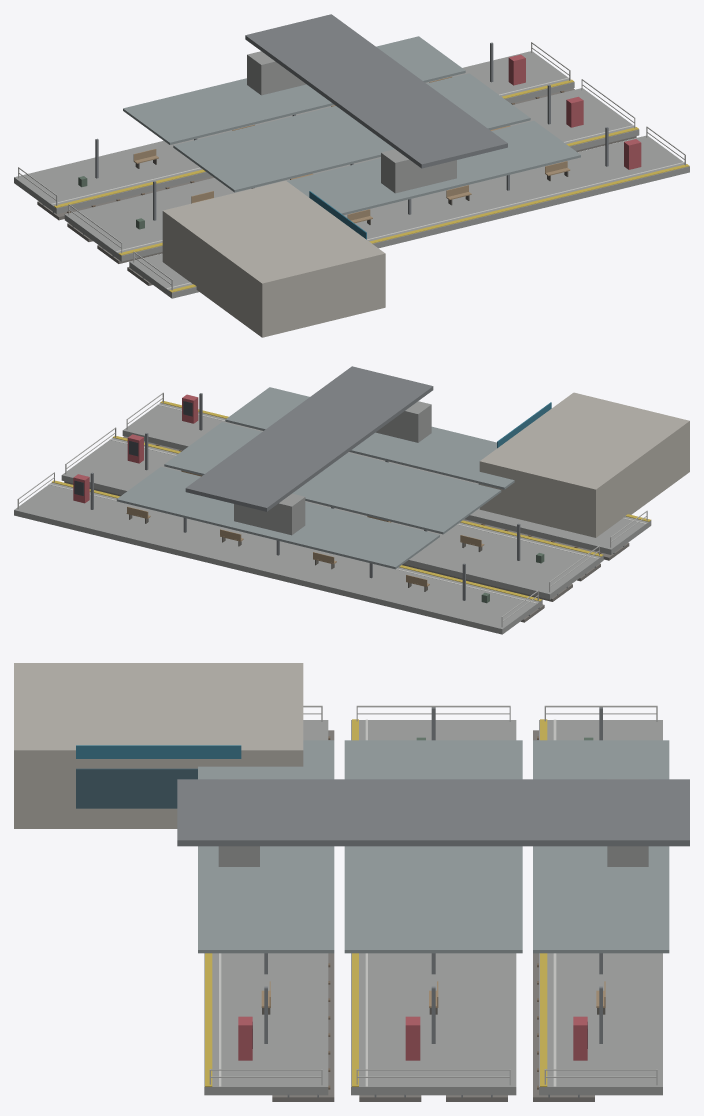
Rendered from station_4track_major.glb.
The picture shows the model from 3 angles, top to bottom: view 1: azimuth 30°, elevation 25°; view 2: azimuth 150°, elevation 25°; view 3: azimuth 270°, elevation 25°; orthographic projection. The views are drawn at different scales.
Parts seen in each view (by area): view 1: station_main_building, footbridge_deck, canopy_roof_1, platform_2, platform_0, canopy_roof_0, platform_1, canopy_roof_2, footbridge_stair_9.4, footbridge_stair_-9.4, tactile_strip_2, tactile_strip_0 (+5 smaller); view 2: station_main_building, platform_0, footbridge_deck, canopy_roof_1, platform_1, canopy_roof_0, canopy_roof_2, platform_2, footbridge_stair_-9.4, footbridge_stair_9.4, tactile_strip_0, tactile_strip_1 (+3 smaller); view 3: footbridge_deck, station_main_building, canopy_roof_1, platform_1, canopy_roof_0, platform_0, canopy_roof_2, platform_2, station_glazing, station_sign, trackbed_3, trackbed_0 (+8 smaller).
Boxes of the visible parts, left/top/right/bottom form: station_main_building: left=162, top=180, right=385, bottom=337; footbridge_deck: left=245, top=14, right=507, bottom=168; canopy_roof_1: left=173, top=73, right=530, bottom=192; platform_2: left=129, top=135, right=689, bottom=298; platform_0: left=14, top=51, right=574, bottom=214; canopy_roof_0: left=123, top=36, right=465, bottom=144; platform_1: left=64, top=88, right=639, bottom=261; canopy_roof_2: left=287, top=120, right=580, bottom=215; footbridge_stair_9.4: left=381, top=149, right=456, bottom=193; footbridge_stair_-9.4: left=247, top=51, right=306, bottom=95; tactile_strip_2: left=169, top=164, right=689, bottom=292; tactile_strip_0: left=54, top=79, right=574, bottom=207; station_main_building: left=479, top=392, right=689, bottom=537; platform_0: left=14, top=482, right=542, bottom=634; footbridge_deck: left=185, top=366, right=433, bottom=511; canopy_roof_1: left=164, top=422, right=501, bottom=534; platform_1: left=61, top=438, right=603, bottom=599; canopy_roof_0: left=116, top=467, right=439, bottom=569; canopy_roof_2: left=225, top=387, right=514, bottom=489; platform_2: left=122, top=403, right=651, bottom=554; footbridge_stair_-9.4: left=234, top=493, right=305, bottom=535; footbridge_stair_9.4: left=375, top=401, right=431, bottom=442; tactile_strip_0: left=52, top=480, right=542, bottom=601; tactile_strip_1: left=112, top=436, right=603, bottom=556; footbridge_deck: left=177, top=779, right=689, bottom=846; station_main_building: left=14, top=663, right=303, bottom=828; canopy_roof_1: left=344, top=740, right=522, bottom=953; platform_1: left=351, top=720, right=516, bottom=1095; canopy_roof_0: left=533, top=740, right=669, bottom=953; platform_0: left=539, top=720, right=662, bottom=1095; canopy_roof_2: left=198, top=740, right=334, bottom=953; platform_2: left=204, top=720, right=328, bottom=1095; station_glazing: left=76, top=768, right=197, bottom=808; station_sign: left=76, top=745, right=241, bottom=758; trackbed_3: left=272, top=730, right=334, bottom=1101; trackbed_0: left=533, top=730, right=594, bottom=1101.
Size of the model in its own units: 42 by 6.73 by 32.7.
